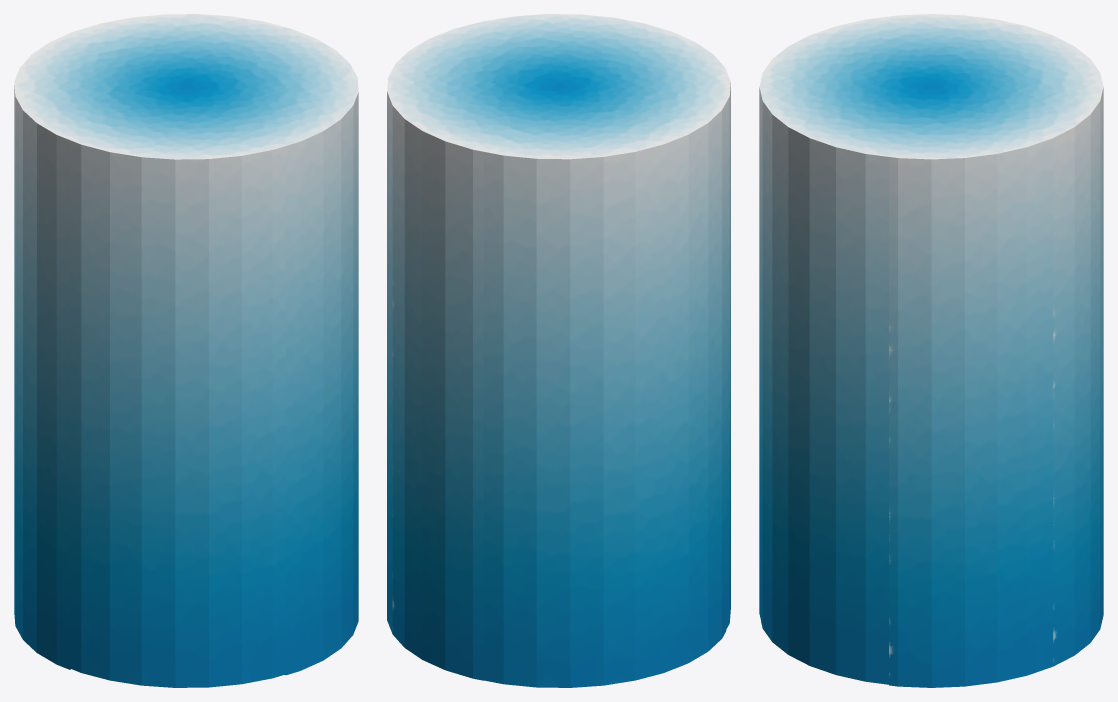
The model's file is iceMapRedone.fbx.
3 renders of one model, left to right at view 1: azimuth 30°, elevation 25°; view 2: azimuth 150°, elevation 25°; view 3: azimuth 270°, elevation 25°, orthographic.
Visible parts, largest first — view 1: Circle.001, Circle.004, Circle.014, Circle.005, Circle.013, Circle.003, Circle.006, Circle.012, Circle.002, Circle.015, Circle.007, Circle.016 (+5 smaller); view 2: Circle.014, Circle.005, Circle.001, Circle.013, Circle.003, Circle.004, Circle.006, Circle.012, Circle.002, Circle.015, Circle.007, Circle.016 (+5 smaller); view 3: Circle.005, Circle.004, Circle.001, Circle.014, Circle.013, Circle.003, Circle.006, Circle.012, Circle.002, Circle.015, Circle.007, Circle.016 (+5 smaller).
Part boxes in pixels (x1,y1,x2,y2): Circle.001: [70, 129, 286, 687]; Circle.004: [267, 67, 358, 675]; Circle.014: [14, 26, 97, 669]; Circle.005: [90, 14, 351, 69]; Circle.013: [42, 41, 130, 132]; Circle.003: [238, 56, 329, 135]; Circle.006: [122, 29, 289, 69]; Circle.012: [97, 103, 234, 134]; Circle.002: [108, 121, 261, 148]; Circle.015: [72, 53, 151, 109]; Circle.007: [224, 61, 298, 121]; Circle.016: [105, 70, 178, 103]; Circle.014: [483, 102, 726, 687]; Circle.005: [387, 36, 509, 680]; Circle.001: [617, 20, 730, 628]; Circle.013: [502, 85, 703, 150]; Circle.003: [446, 27, 625, 63]; Circle.004: [437, 14, 629, 42]; Circle.006: [428, 59, 527, 131]; Circle.012: [584, 51, 679, 108]; Circle.002: [599, 35, 709, 92]; Circle.015: [519, 104, 649, 138]; Circle.007: [471, 42, 605, 72]; Circle.016: [542, 88, 627, 121]; Circle.005: [889, 77, 1103, 687]; Circle.004: [761, 90, 895, 684]; Circle.001: [759, 17, 900, 619]; Circle.014: [880, 14, 1102, 81]; Circle.013: [867, 23, 1069, 84]; Circle.003: [789, 83, 940, 147]; Circle.006: [918, 81, 1054, 142]; Circle.012: [836, 42, 932, 89]; Circle.002: [794, 35, 876, 91]; Circle.015: [930, 42, 1047, 82]; Circle.007: [832, 87, 946, 130]; Circle.016: [910, 53, 995, 88].
Bounding box in the file's own units: 349 × 591 × 349.
1 material, 1 textured.
